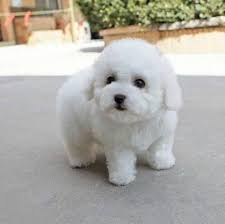dog: (48, 32, 186, 188)
